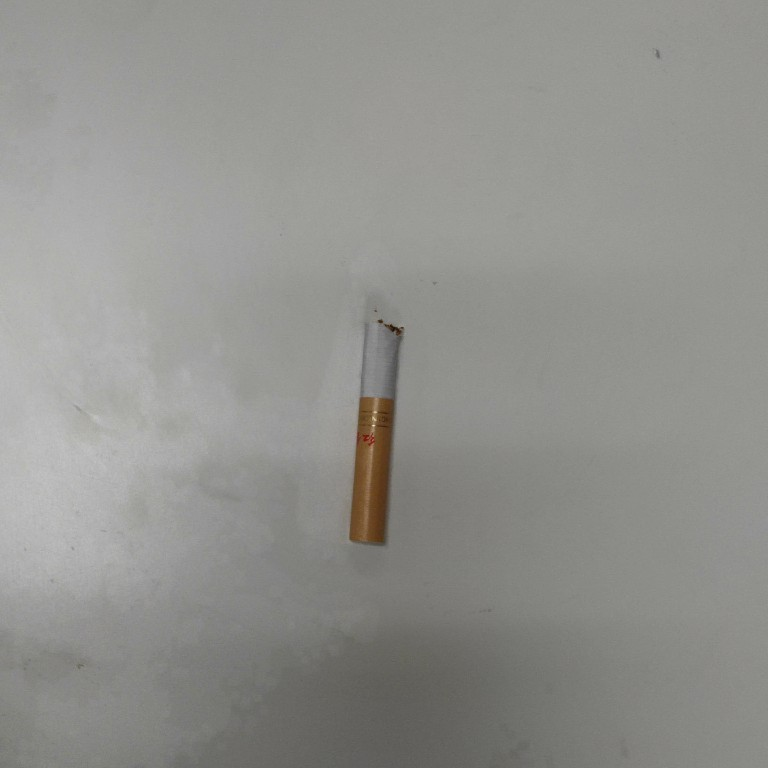cigarette: (343, 308, 412, 554)
